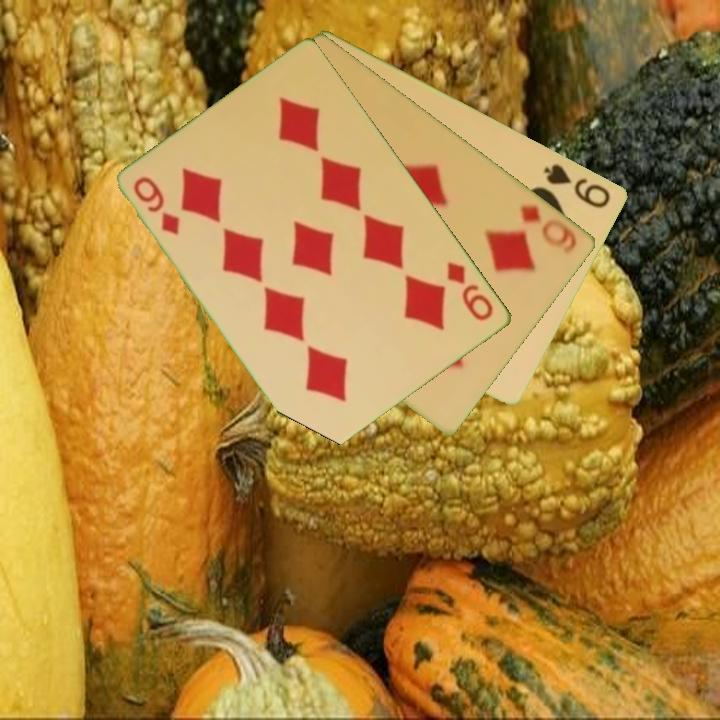6d: (517, 200, 581, 257)
9d: (130, 173, 184, 238), (444, 258, 497, 324)
9s: (540, 159, 614, 211)
